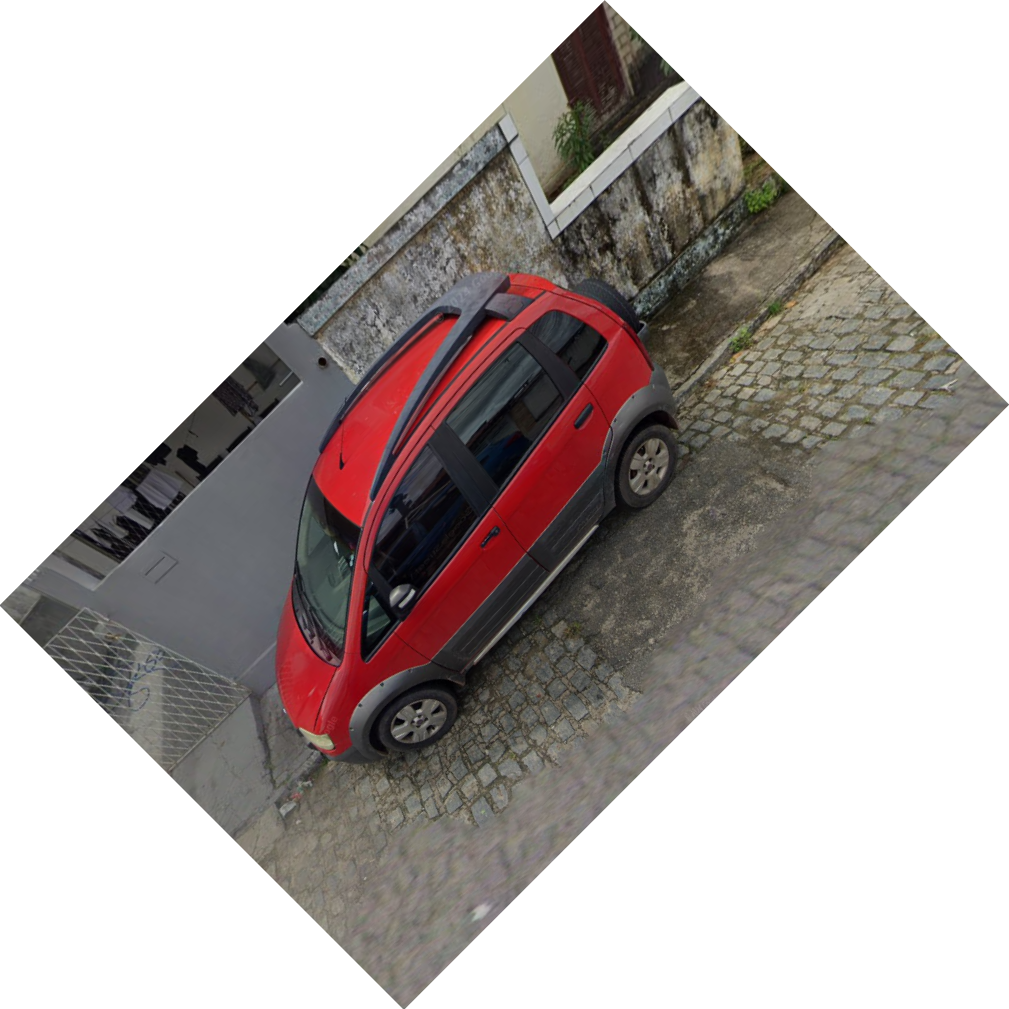car: (272, 267, 684, 770)
